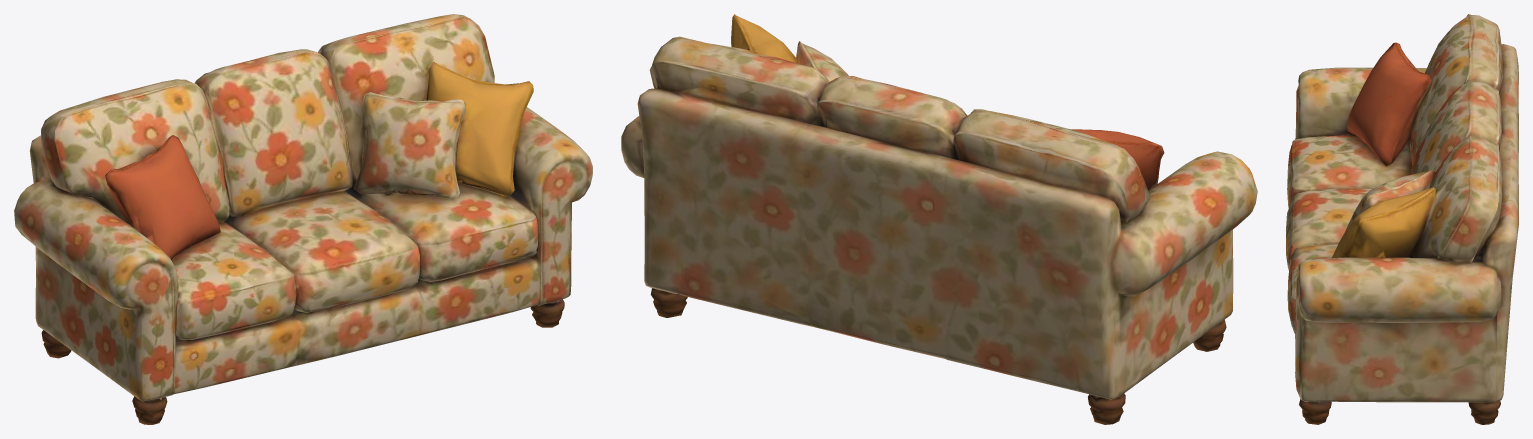
The model's file is sofa.glb.
3 views of the same model, side by side, from view 1: azimuth 30°, elevation 25°; view 2: azimuth 150°, elevation 25°; view 3: azimuth 270°, elevation 25° (orthographic). The views are drawn at different scales.
Parts seen in each view (by area): view 1: sofa-node; view 2: sofa-node; view 3: sofa-node.
Boxes of the visible parts, box(x1,y1,x2,y2) form: sofa-node: box(14, 14, 592, 424); sofa-node: box(621, 14, 1257, 424); sofa-node: box(1286, 14, 1518, 424).
Size of the model in its own units: 2.04 by 1 by 0.9161.
Materials: 1 (1 with a texture image).
